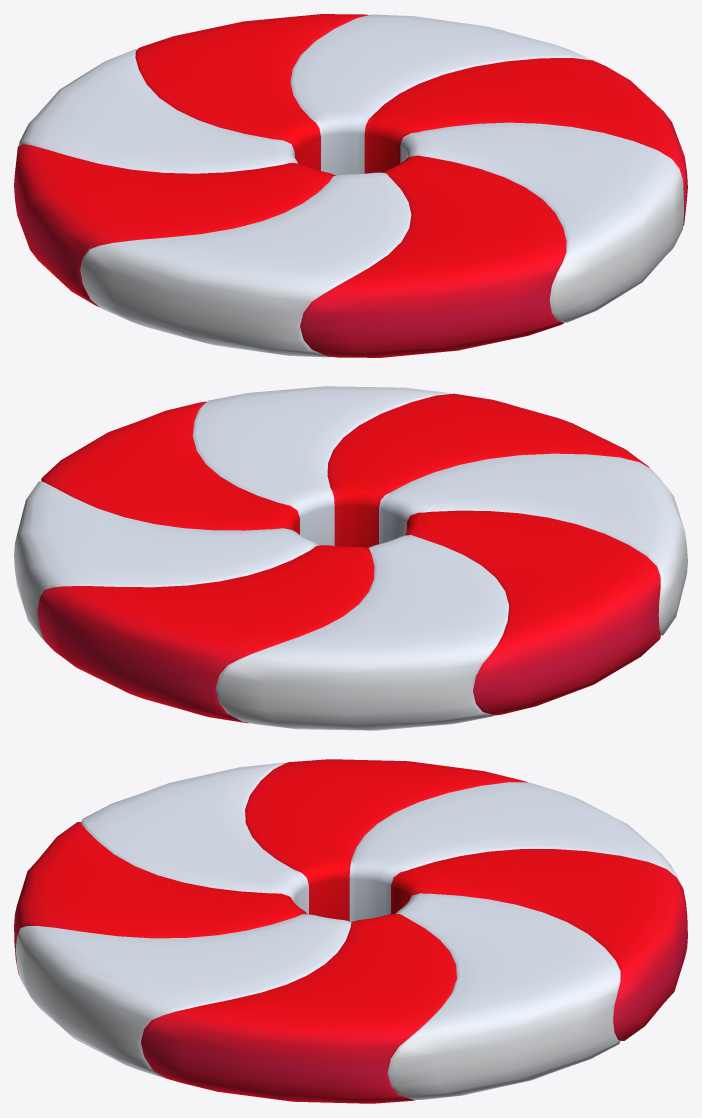
File: obstacle_3_001.glb
3 views of the same model, one above another, from view 1: azimuth 30°, elevation 25°; view 2: azimuth 150°, elevation 25°; view 3: azimuth 270°, elevation 25° (orthographic).
Parts seen in each view (by area): view 1: obstacle_3_001; view 2: obstacle_3_001; view 3: obstacle_3_001.
Part boxes in pixels (left/top/right/bottom): obstacle_3_001: left=14, top=14, right=687, bottom=357; obstacle_3_001: left=14, top=386, right=687, bottom=730; obstacle_3_001: left=14, top=759, right=687, bottom=1103.
Bounding box in the file's own units: 9.27 × 1.25 × 9.27.
1 material, 1 textured.
